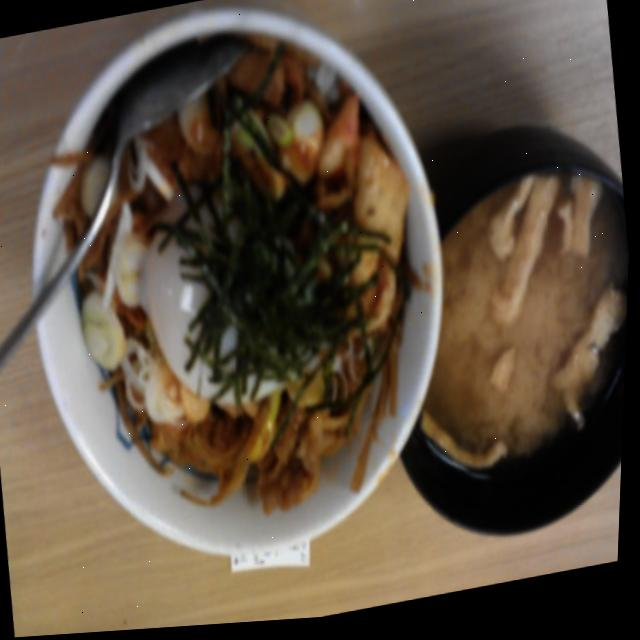汤锅炖物: (351, 52, 637, 566)
